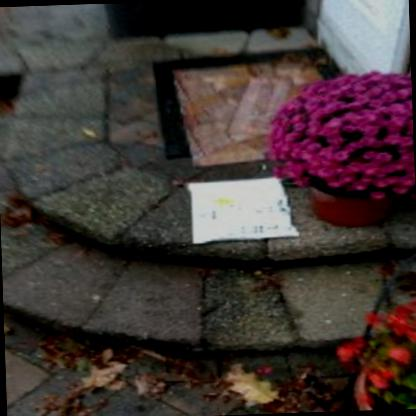envelope: (184, 173, 304, 249)
